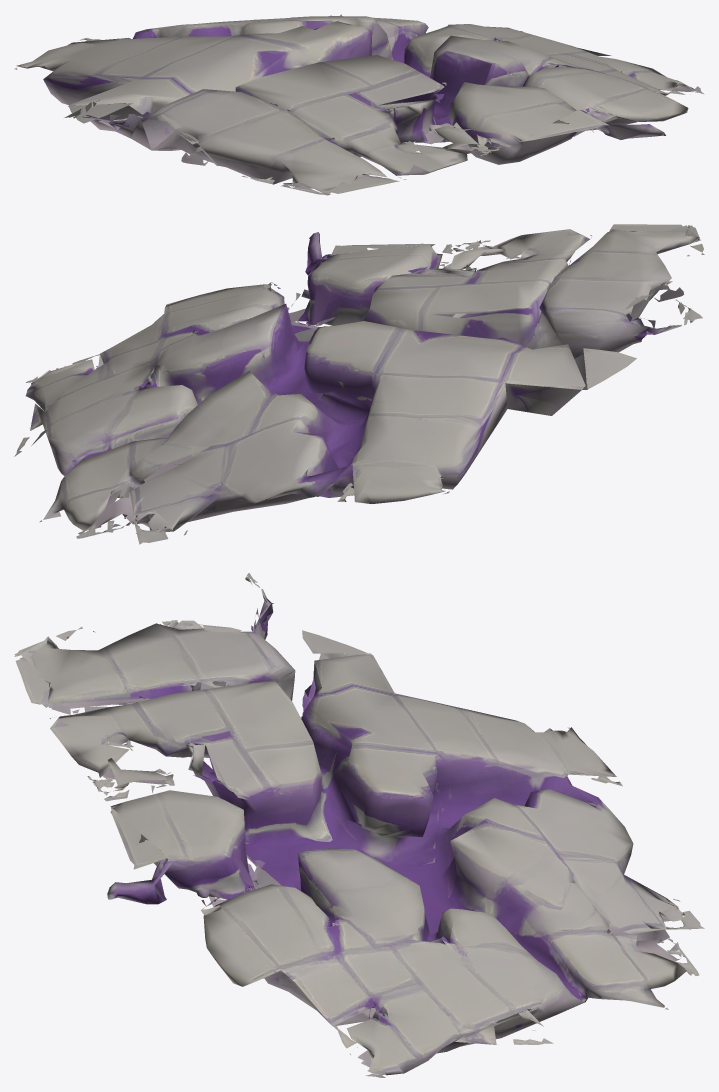
Rendered from SM_Entorno_SueloBaldosasAgrietadas_01.fbx.
3 renders of one model, top to bottom at view 1: azimuth 30°, elevation 25°; view 2: azimuth 150°, elevation 25°; view 3: azimuth 270°, elevation 25°, orthographic. The views are drawn at different scales.
Parts seen in each view (by area): view 1: SM_Entorno_SueloBaldosasAgrietadas_01; view 2: SM_Entorno_SueloBaldosasAgrietadas_01; view 3: SM_Entorno_SueloBaldosasAgrietadas_01.
Boxes of the visible parts, x1,y1,x2,y2 form: SM_Entorno_SueloBaldosasAgrietadas_01: [14, 14, 704, 195]; SM_Entorno_SueloBaldosasAgrietadas_01: [14, 224, 704, 544]; SM_Entorno_SueloBaldosasAgrietadas_01: [14, 573, 704, 1077].
Bounding box in the file's own units: 0.9965 × 0.2894 × 0.9006.
1 material, 1 textured.
